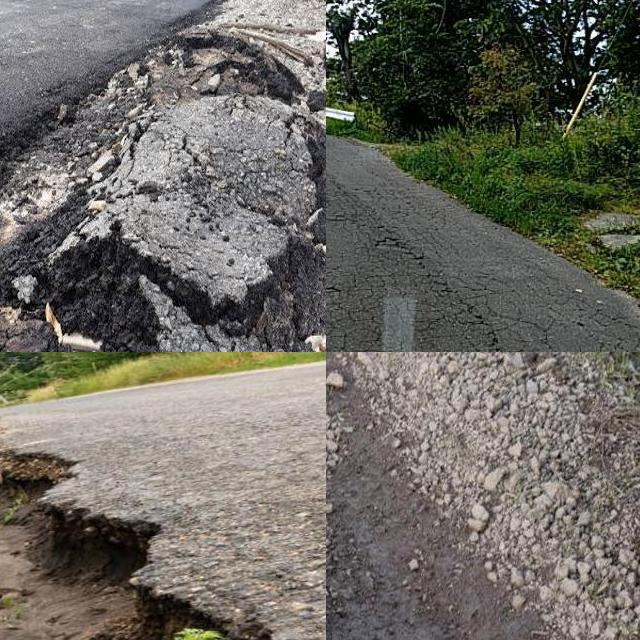Pinggir: (0, 0, 326, 352), (326, 352, 564, 640), (0, 428, 300, 640)
Retak Buaya: (326, 169, 640, 352)
